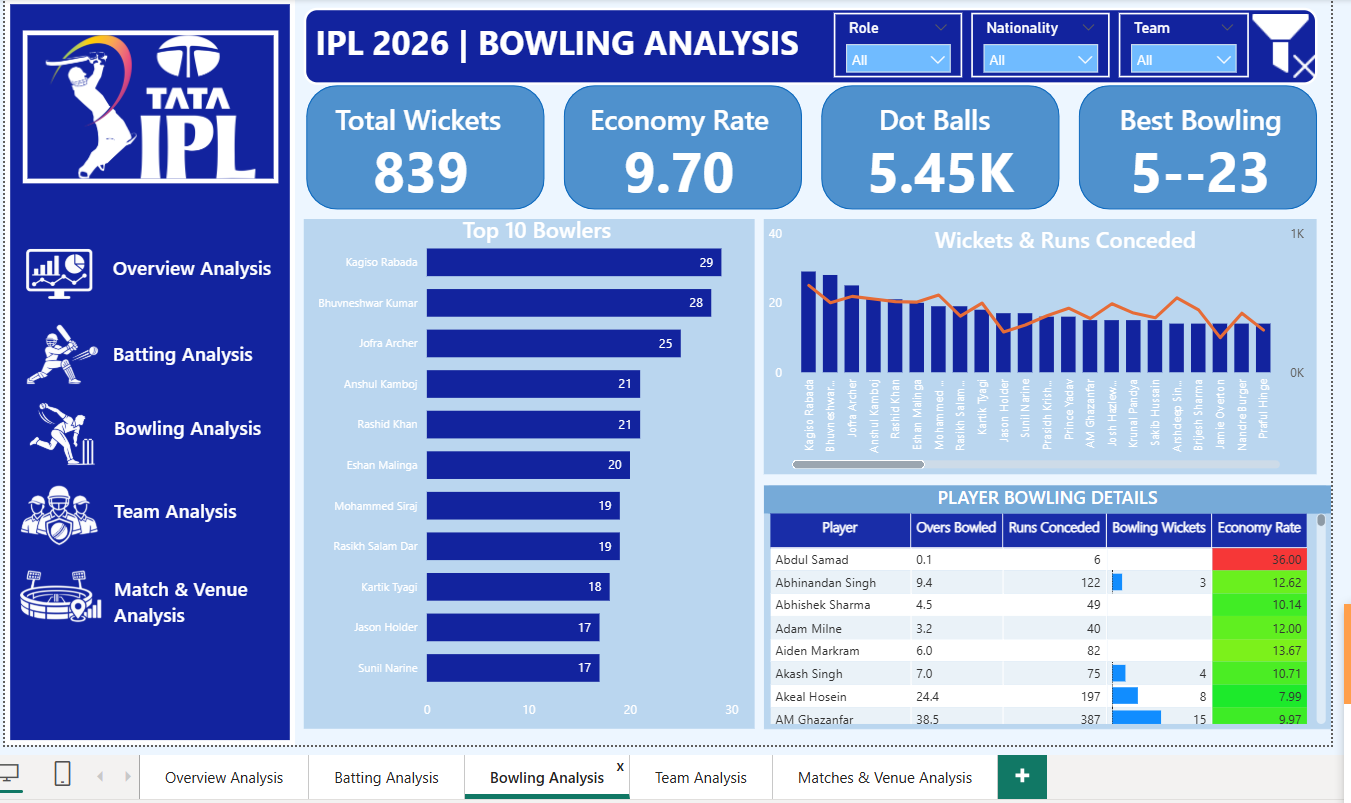

The dashboard page shown, as its layout file describes it:
{"tool":"powerbi","page":{"name":"Bowling Analysis","canvas":[1280,720],"ordinal":2},"visuals":[{"type":"textbox","box":[288.3,8.4,978.4,74.8],"z":0},{"type":"shape","box":[0,0,279.9,720.2],"z":1000},{"type":"shape","box":[290.3,82.8,230,120],"z":2000},{"type":"shape","box":[539.1,83.2,230,120],"z":3000},{"type":"shape","box":[788,83.2,230,120],"z":4000},{"type":"shape","box":[1036.8,83.2,230,120],"z":5000},{"type":"card","fields":{"Values":["Measures_Table.Total_Wickets"]},"box":[317.3,133.9,168.9,60.3],"z":6000},{"type":"textbox","box":[299.2,92.9,199.1,49.5],"z":7000},{"type":"card","fields":{"Values":["Measures_Table.Economy Rate"]},"box":[551.3,133.9,199.1,60.3],"z":8000},{"type":"textbox","box":[551.3,92.9,199.1,50.7],"z":9000},{"type":"card","fields":{"Values":["Measures_Table.Total_Dot_Balls"]},"box":[803.5,133.9,199.1,60.3],"z":10000},{"type":"card","fields":{"Values":["Measures_Table.Best_Bowling"]},"box":[1054.4,133.9,199.1,60.3],"z":11000},{"type":"textbox","box":[1054.4,92.9,199.1,49.5],"z":12000},{"type":"textbox","box":[791.4,92.9,211.1,50.7],"z":13000},{"type":"image","box":[16.9,30.2,247.3,148.4],"z":14000},{"type":"clusteredBarChart","fields":{"Y":["Measures_Table.Bowling Wickets"],"Category":["squads.player"]},"box":[288.3,212.3,435.5,492.2],"z":15000},{"type":"textbox","box":[317.3,202.7,392.1,38.6],"z":16000},{"type":"lineClusteredColumnComboChart","fields":{"Category":["squads.player"],"Y":["Measures_Table.Bowling Wickets"],"Y2":["Measures_Table.Runs Conceded by Bowler"]},"box":[732.3,212.3,533.2,246.1],"z":17000},{"type":"textbox","box":[866.8,212.9,314.4,48.7],"z":18000},{"type":"slicer","fields":{"Values":["squads.role"]},"box":[799.6,13.3,124.3,62.7],"z":19000},{"type":"tableEx","title":"PLAYER BOWLING DETAILS","fields":{"Values":["squads.player","Measures_Table.Overs Bowled","Measures_Table.Runs Conceded by Bowler","Measures_Table.Bowling Wickets","Measures_Table.Economy Rate"]},"box":[732.3,469.3,547.7,235.3],"z":20000},{"type":"slicer","fields":{"Values":["squads.nationality"]},"box":[932.3,13.3,133.9,62.7],"z":21000},{"type":"image","box":[1204,14.5,61.5,61.5],"z":22000},{"type":"image","box":[6,228.5,92.9,72.4],"z":23000},{"type":"image","box":[7.2,306.3,92.9,72.4],"z":24000},{"type":"image","box":[8.4,384.1,92.9,72.4],"z":25000},{"type":"image","box":[6,461.9,92.9,72.4],"z":26000},{"type":"image","box":[6,539.5,92.9,72.4],"z":27000},{"type":"textbox","box":[98.9,241.3,189.4,42.2],"z":28000},{"type":"textbox","box":[98.9,324.5,181,44.6],"z":29000},{"type":"textbox","box":[100.1,395.7,179.8,45.8],"z":30000},{"type":"textbox","box":[100.1,476.5,179.8,48.3],"z":31000},{"type":"textbox","box":[100.1,551.3,190.6,60.3],"z":32000},{"type":"slicer","fields":{"Values":["dim_team.team_code"]},"box":[1074.7,13.3,125.5,62.7],"z":33000}]}

Visuals, with their boxes on the page's 1280x720 design canvas (x1, y1, x2, y2). These are canvas units, not pixel positions in the 1351x803 screenshot, which may show the page scaled, cropped or inside an application window:
textbox: 288:8:1267:83
shape: 0:0:280:720
shape: 290:83:520:203
shape: 539:83:769:203
shape: 788:83:1018:203
shape: 1037:83:1267:203
card - Measures_Table.Total_Wickets: 317:134:486:194
textbox: 299:93:498:142
card - Measures_Table.Economy Rate: 551:134:750:194
textbox: 551:93:750:144
card - Measures_Table.Total_Dot_Balls: 804:134:1003:194
card - Measures_Table.Best_Bowling: 1054:134:1254:194
textbox: 1054:93:1254:142
textbox: 791:93:1002:144
image: 17:30:264:179
clusteredBarChart - Measures_Table.Bowling Wickets x squads.player: 288:212:724:704
textbox: 317:203:709:241
lineClusteredColumnComboChart - squads.player x Measures_Table.Bowling Wickets: 732:212:1266:458
textbox: 867:213:1181:262
slicer - squads.role: 800:13:924:76
"PLAYER BOWLING DETAILS" tableEx: 732:469:1280:705
slicer - squads.nationality: 932:13:1066:76
image: 1204:14:1266:76
image: 6:228:99:301
image: 7:306:100:379
image: 8:384:101:456
image: 6:462:99:534
image: 6:540:99:612
textbox: 99:241:288:284
textbox: 99:324:280:369
textbox: 100:396:280:442
textbox: 100:476:280:525
textbox: 100:551:291:612
slicer - dim_team.team_code: 1075:13:1200:76
